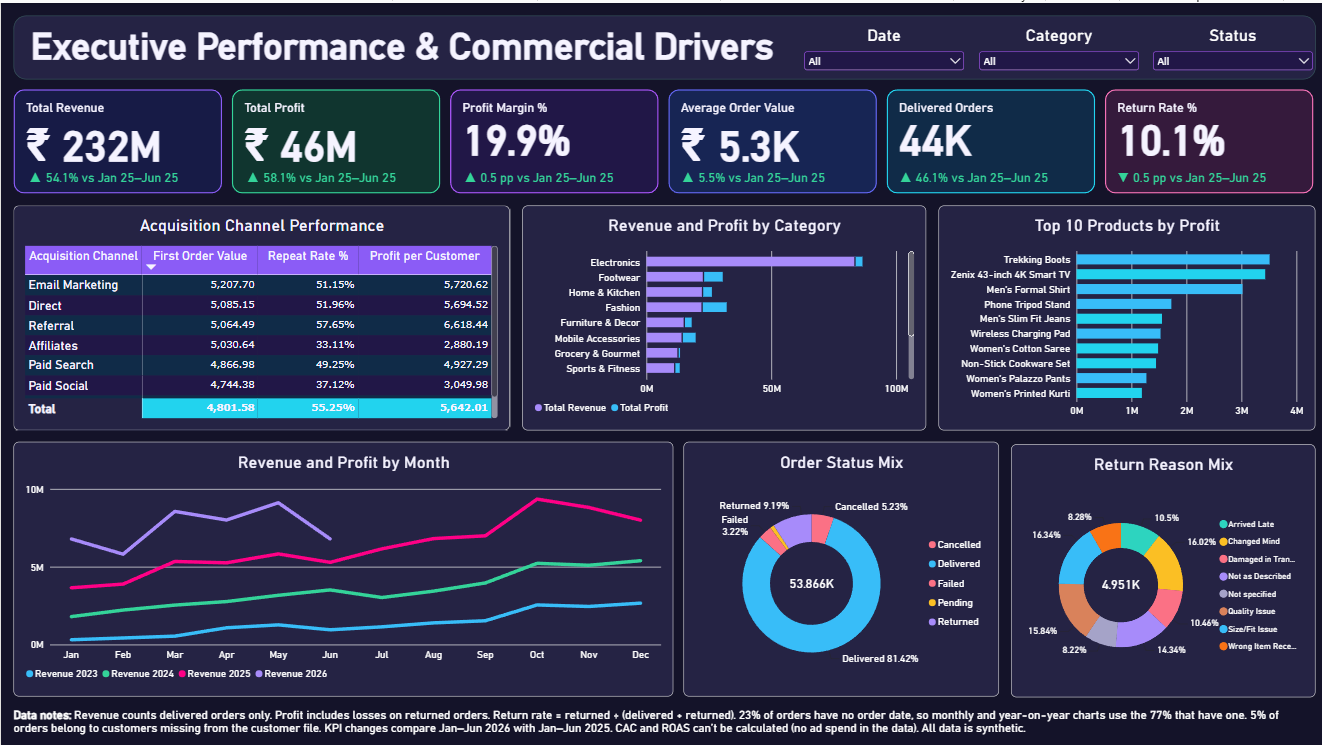

Layout of this report page (visuals, bound fields, positions):
{"tool":"powerbi","page":{"name":"Page 1","canvas":[1920,1080],"ordinal":0},"visuals":[{"type":"shape","box":[18.5,18.5,1885.4,92.6],"z":0},{"type":"textbox","box":[43.2,30.9,1090.9,78.2],"z":1000},{"type":"cardVisual","fields":{"Data":["ecom customers.Total Revenue","ecom customers.Total Profit","ecom customers.Avg Profit Margin","ecom customers.Average Order Value","ecom customers.Delivered Orders","ecom customers.Return Rate %"]},"box":[18.1,125,1887.5,151.4],"z":2000},{"type":"barChart","title":"Revenue and Profit by Category","fields":{"Category":["ecom order_lines.product_category"],"Y":["ecom customers.Total Revenue","ecom customers.Total Profit"]},"box":[755.4,292.3,584.6,325.2],"z":3000},{"type":"pivotTable","title":"Acquisition Channel Performance","fields":{"Rows":["ecom orders.acquisition_channel"],"Values":["ecom customers.First Order Value","ecom customers.Repeat Rate %","ecom customers.Profit per Customer"]},"box":[18.5,292.3,718.4,325.2],"z":4000},{"type":"barChart","title":"Top 10 Products by Profit","fields":{"Category":["ecom order_lines.product_name"],"Y":["ecom customers.Total Profit"]},"box":[1356.4,292.3,545.5,325.2],"z":5000},{"type":"donutChart","title":"Order Status Mix","fields":{"Series":["ecom orders.order_status"],"Y":["Count(ecom orders.order_id)"]},"box":[988,636,456.9,368.4],"z":6000},{"type":"donutChart","title":"Return Reason Mix","fields":{"Series":["ecom orders.return_reason"],"Y":["Count(ecom orders.order_id)"]},"box":[1461.4,638.1,440.5,366.4],"z":7000},{"type":"lineChart","title":"Revenue and Profit by Month","fields":{"Category":["Date Table.Month"],"Y":["Customer RFM.Revenue 2023","Customer RFM.Revenue 2024","Customer RFM.Revenue 2025","Customer RFM.Revenue 2026"]},"box":[18.5,636,955.1,368.4],"z":8000},{"type":"slicer","title":"Date","fields":{"Values":["Date Table.Year Hierarchy.Year","Date Table.Year Hierarchy.Month","Date Table.Year Hierarchy.Date"]},"box":[1158.8,32.2,240.8,78.2],"z":9000},{"type":"slicer","title":"Status","fields":{"Values":["ecom order_lines.order_status"]},"box":[1663.1,32.2,240.8,78.2],"z":10000},{"type":"slicer","title":"Category","fields":{"Values":["ecom order_lines.product_category"]},"box":[1411,32.2,240.8,78.2],"z":11000},{"type":"cardVisual","fields":{"Data":["Customer RFM.Revenue YoY Indicator","Customer RFM.Profit YoY Indicator","Customer RFM.Margin YoY Indicator","Customer RFM.AOV YoY Indicator","Customer RFM.Orders YoY Indicator","Customer RFM.Return Rate YoY Indicator"]},"box":[22.6,228.5,1885.4,49.4],"z":12000},{"type":"textbox","box":[18.5,1020.9,1883.4,59.7],"z":13000}]}

Visuals, with their boxes in screenshot pixels (x1, y1, x2, y2), scaled from the page's 1920x1080 canvas onto the 1322x745 screenshot:
shape: region(13, 13, 1311, 77)
textbox: region(30, 21, 781, 75)
cardVisual - ecom customers.Total Revenue x ecom customers.Total Profit: region(12, 86, 1312, 191)
"Revenue and Profit by Category" barChart: region(520, 202, 923, 426)
"Acquisition Channel Performance" pivotTable: region(13, 202, 507, 426)
"Top 10 Products by Profit" barChart: region(934, 202, 1310, 426)
"Order Status Mix" donutChart: region(680, 439, 995, 693)
"Return Reason Mix" donutChart: region(1006, 440, 1310, 693)
"Revenue and Profit by Month" lineChart: region(13, 439, 670, 693)
"Date" slicer: region(798, 22, 964, 76)
"Status" slicer: region(1145, 22, 1311, 76)
"Category" slicer: region(972, 22, 1137, 76)
cardVisual - Customer RFM.Revenue YoY Indicator x Customer RFM.Profit YoY Indicator: region(16, 158, 1314, 192)
textbox: region(13, 704, 1310, 744)
